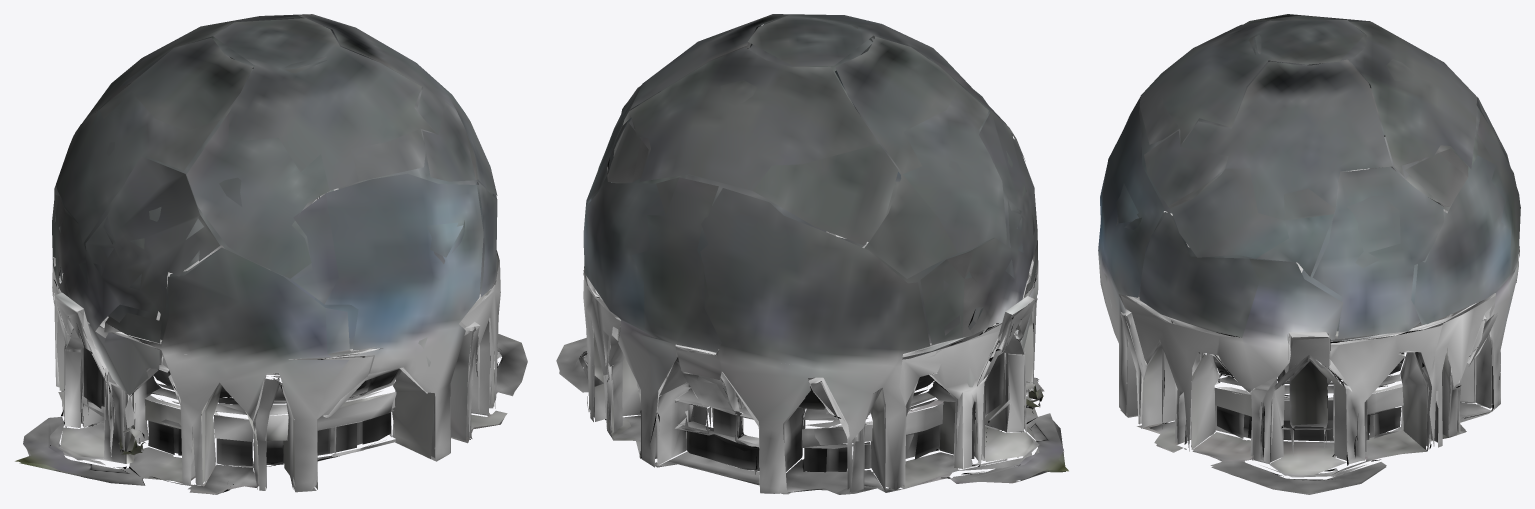
Rendered from plazir-dome.lo.glb.
3 renders of one model, left to right at view 1: azimuth 30°, elevation 25°; view 2: azimuth 150°, elevation 25°; view 3: azimuth 270°, elevation 25°, orthographic. The views are drawn at different scales.
Visible parts, largest first — view 1: low; view 2: low; view 3: low.
Boxes of the visible parts, x1,y1,x2,y2 form: low: [15, 14, 527, 494]; low: [556, 14, 1068, 494]; low: [1098, 14, 1520, 494].
Bounding box in the file's own units: 0.8958 × 0.6267 × 0.6899.
Materials: 1 (1 with a texture image).
